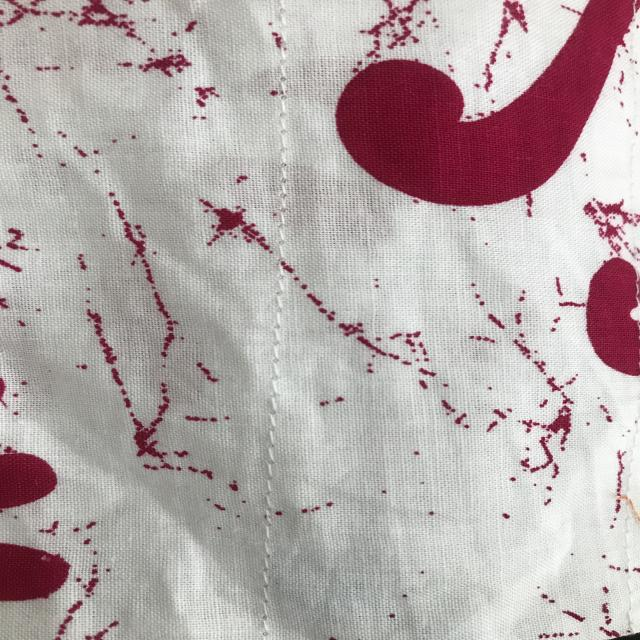good: (249, 431, 287, 631), (260, 104, 310, 234), (263, 283, 296, 414)
